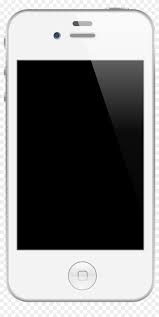iphone: (5, 7, 157, 308)
